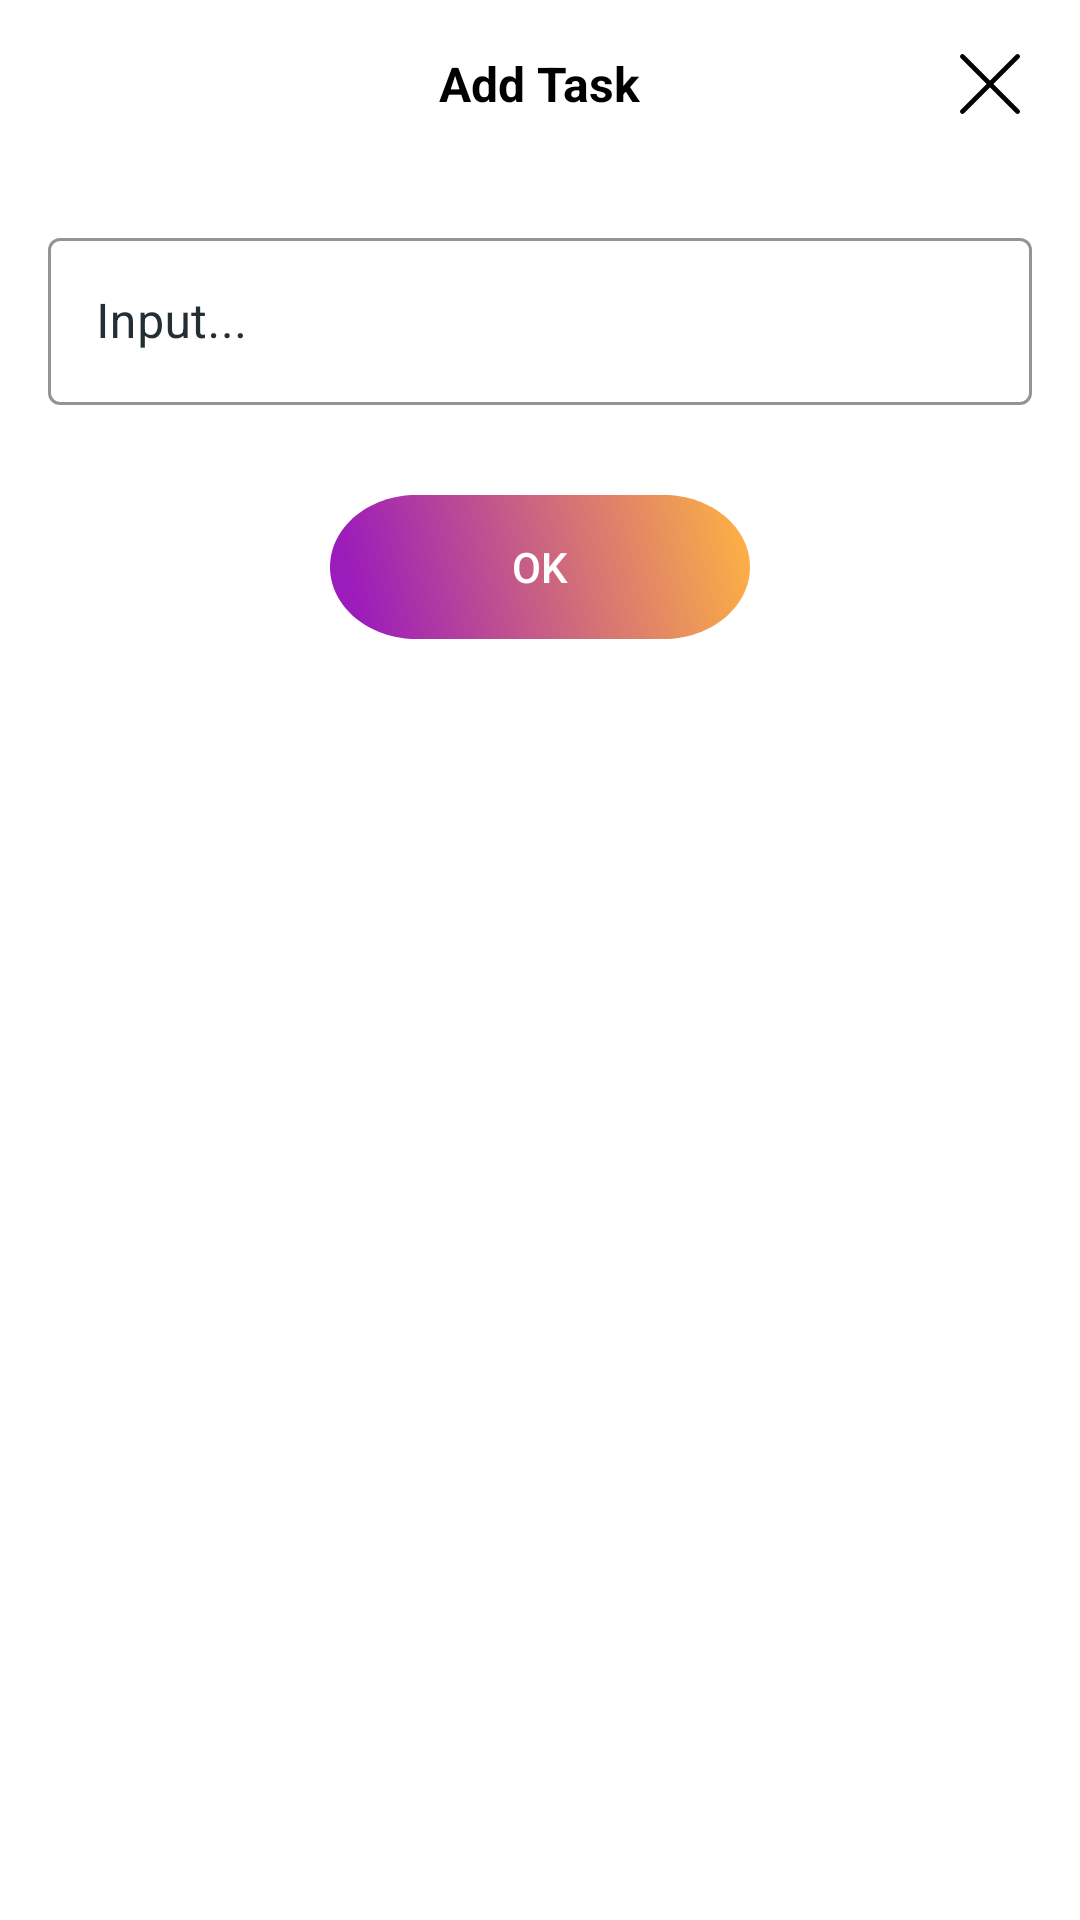

Named icons in this screenshot (1080 x 1920) and their bounding boxes, (x1, y1, x2, y2):
clear: (960, 54, 1020, 114)
